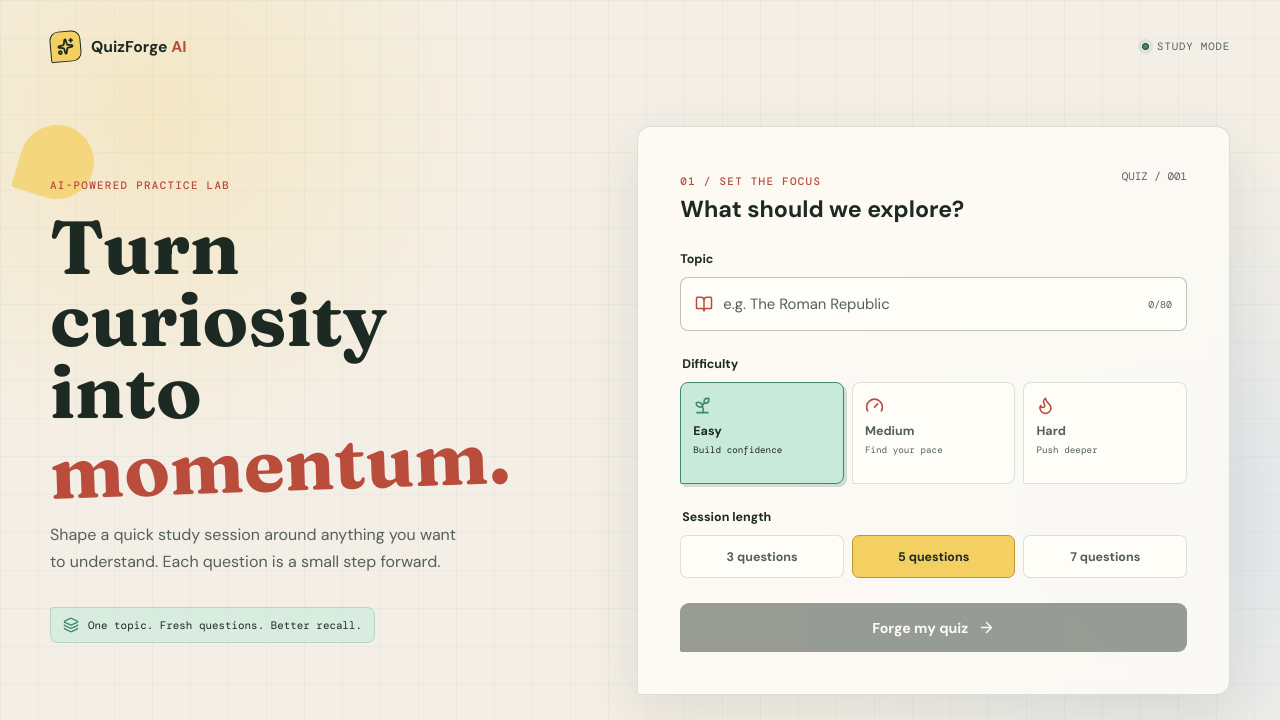
frontend accessibility behavior › selects a rejected topic for replacement and allows a retry
In the field with id "topic": (936, 304) [723, 281, 1148, 327], type "???"
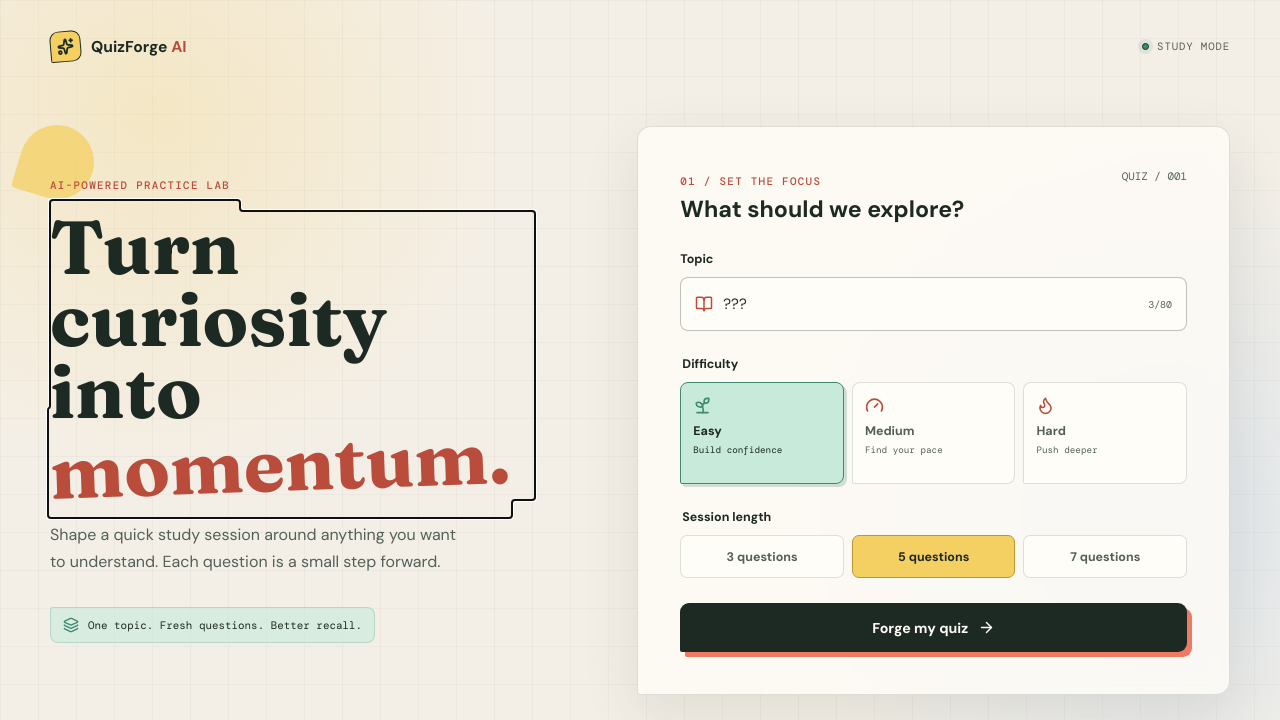
Submit the form, box [637, 126, 1230, 695]
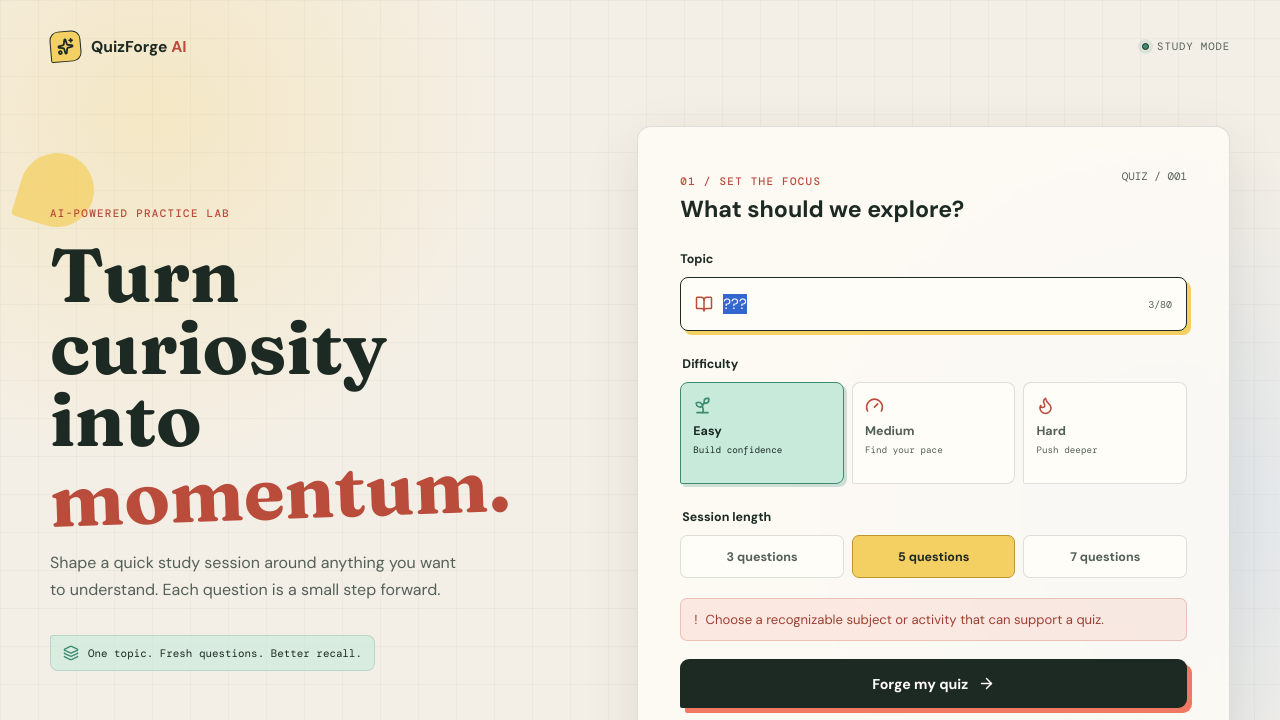
Expected: the field with id "topic" holds "???"
Expected: the message with class "form-error" shows "recognizable subject or activity", [706, 611, 1104, 628]
Replace the text in the field with id "topic" with "Roman history": (936, 304) [723, 281, 1148, 327]
(page scrolled)
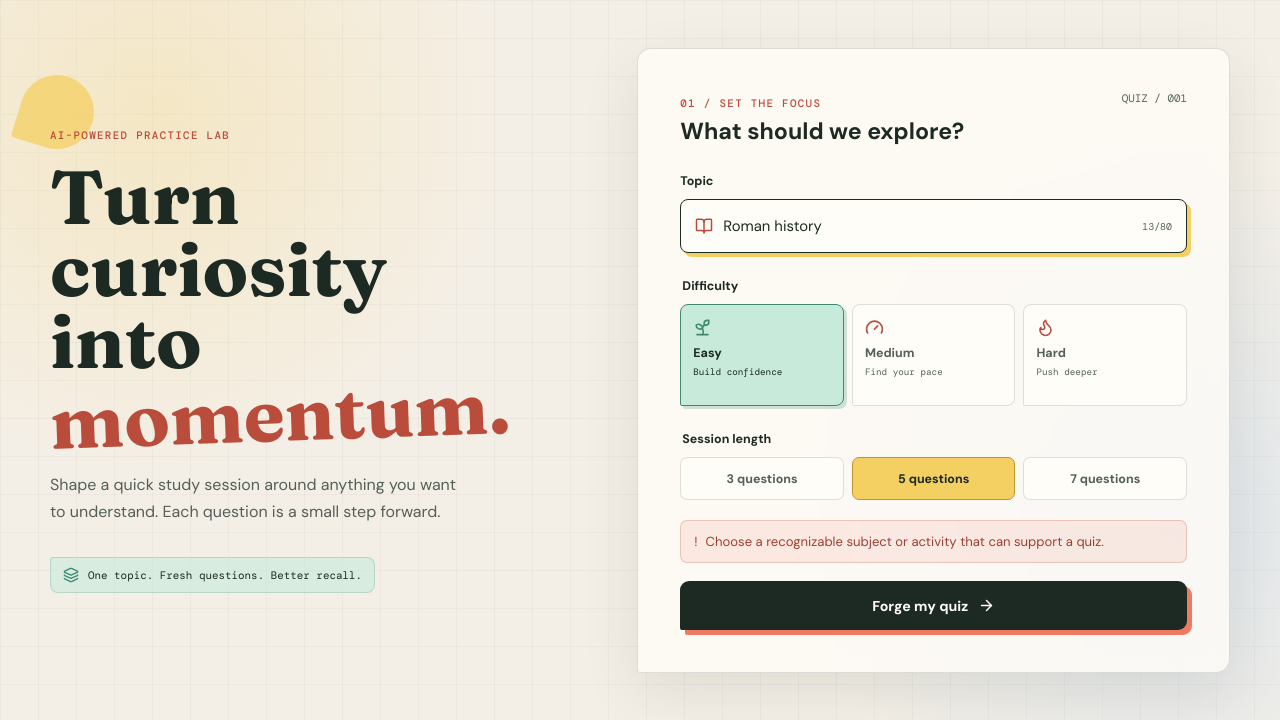
Submit the form, box [637, 48, 1230, 673]
(page scrolled)
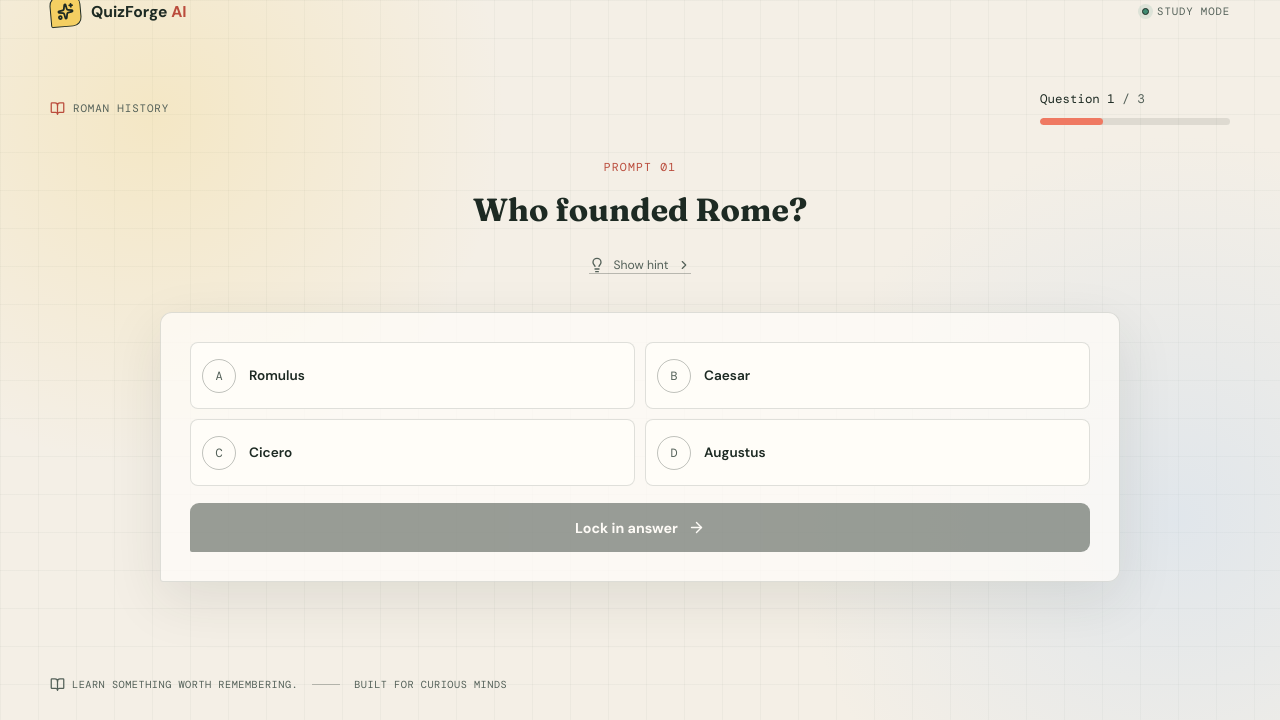
Expected: the element that starts with "Roman history" is shown
